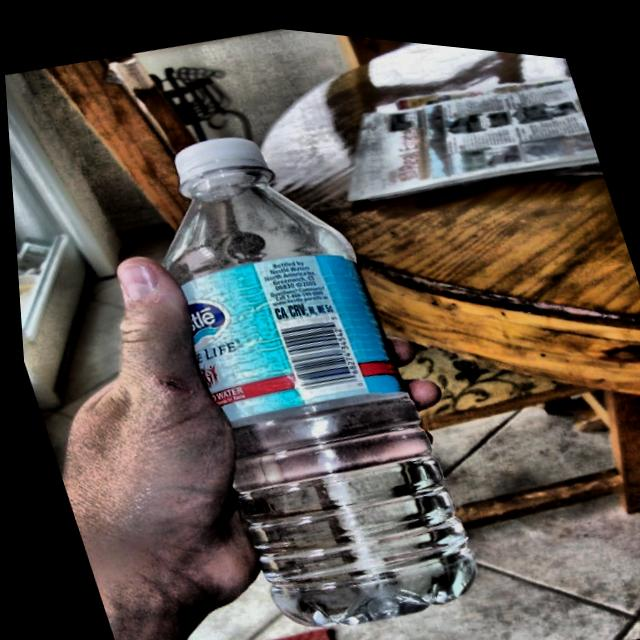Bottles: (65, 65, 535, 640)
